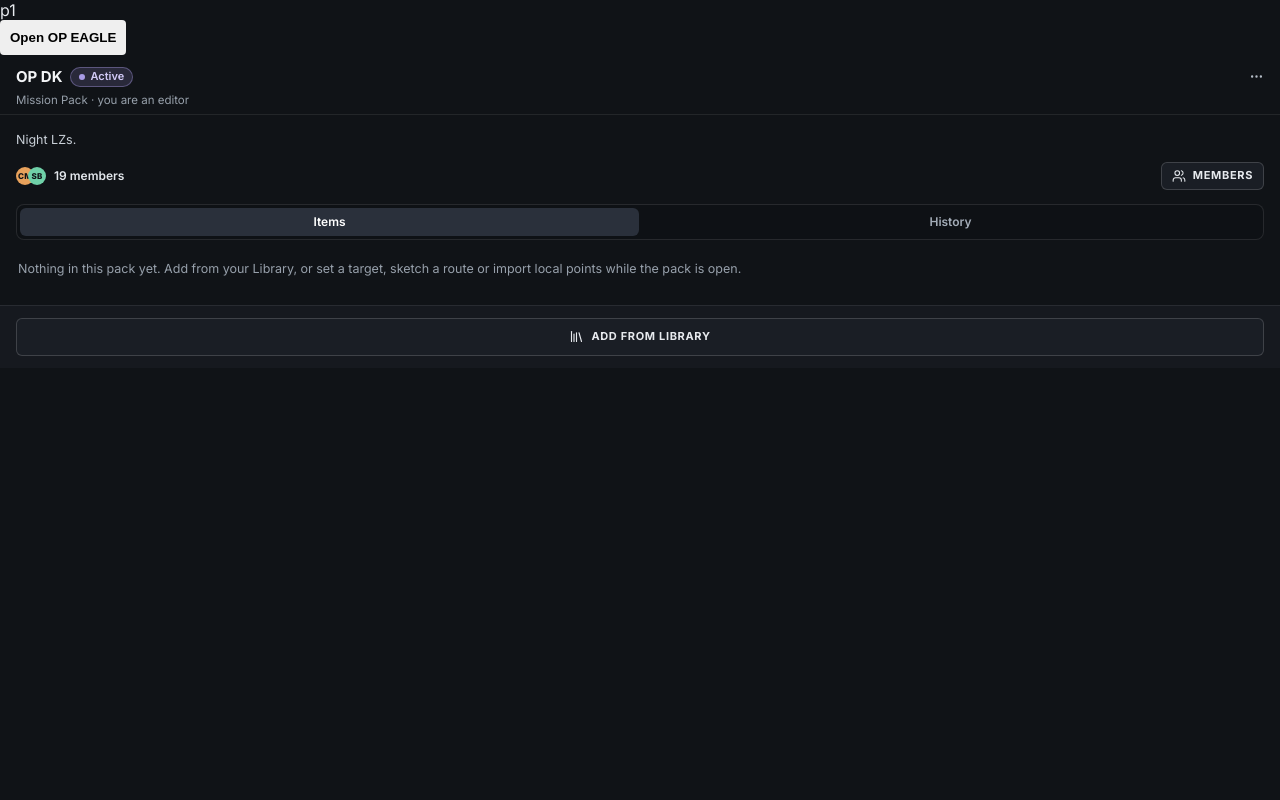
Test: leaving the pack › says a member who is also in the shared team keeps it through the team
The image size is (1280, 800).
What coordinates should you click on to do the following:
click the button named "More actions for OP DK"
I would click on:
 (1256, 76)
Its box is x1=1242 y1=62 x2=1270 y2=90.
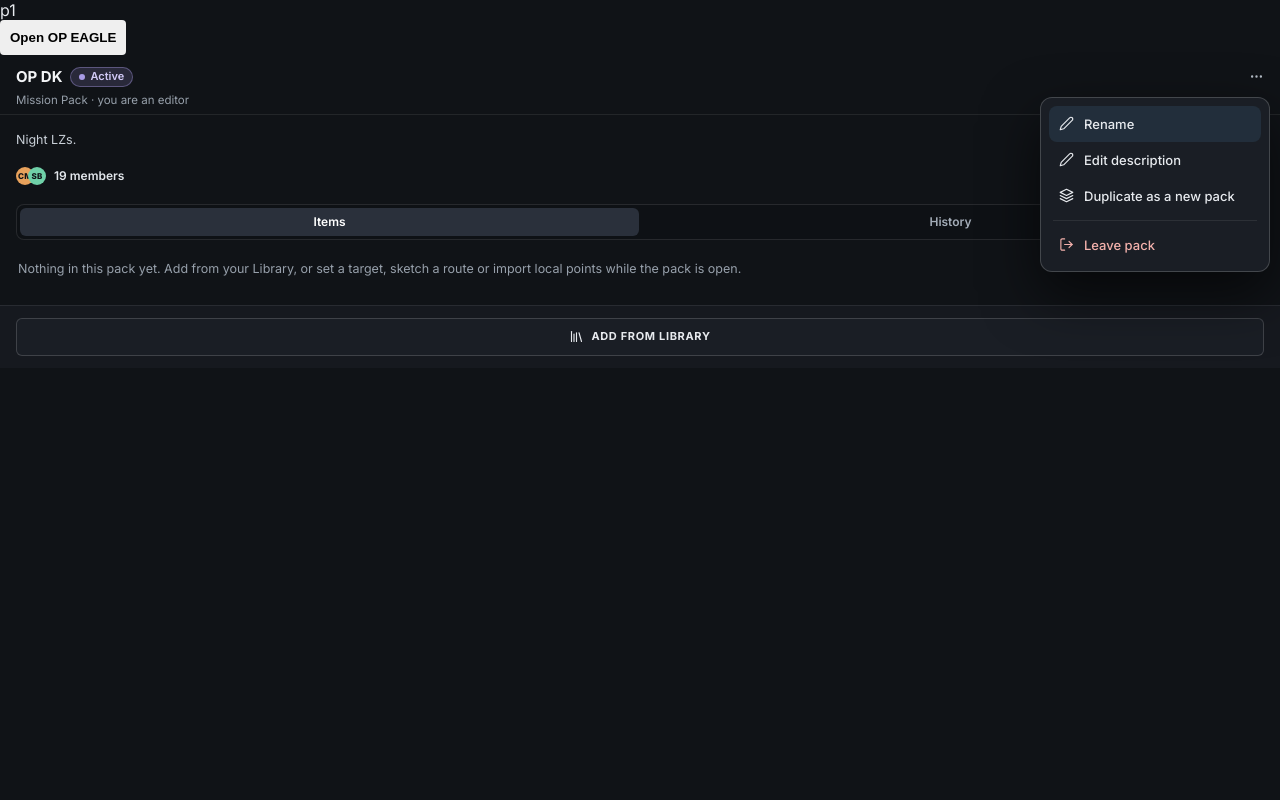
What coordinates should you click on to do the following:
click the menu item "Leave pack"
I would click on:
 (1155, 244)
Its box is x1=1049 y1=226 x2=1261 y2=262.
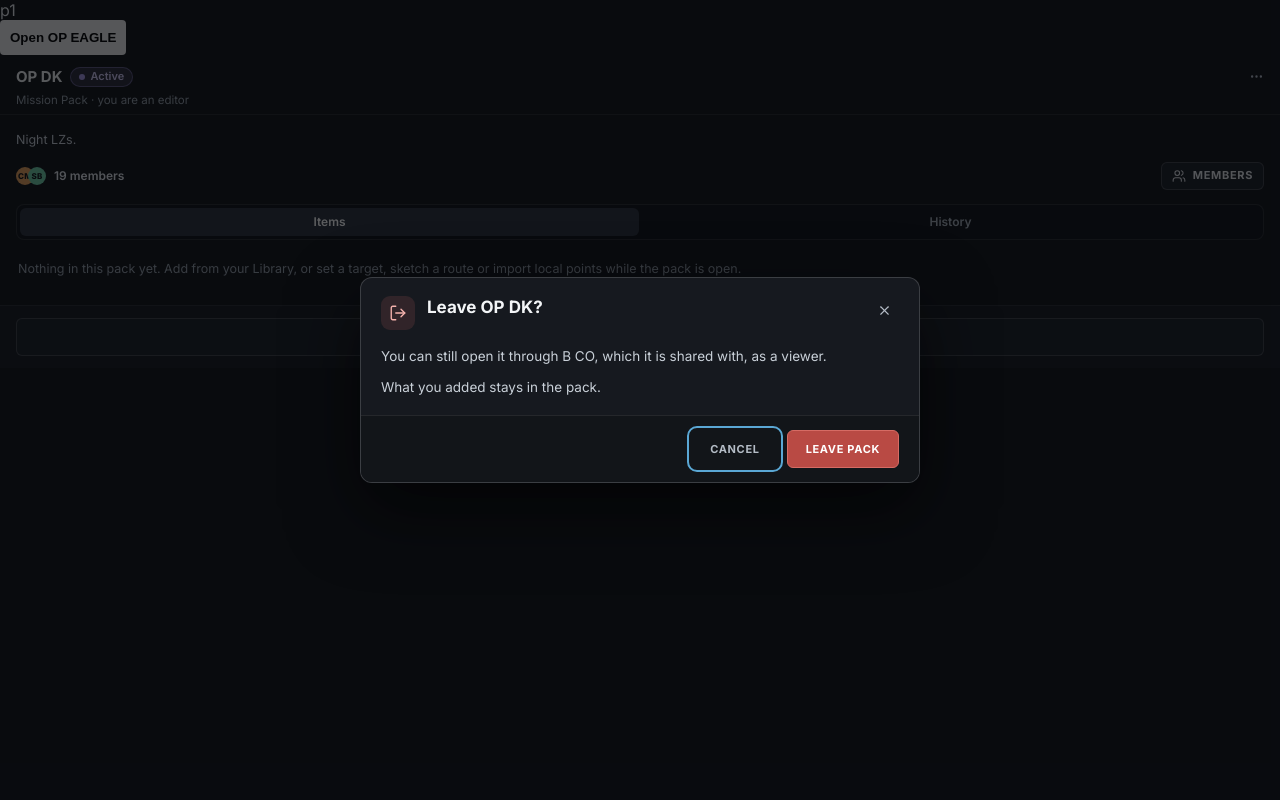
Expected: the text "You can still open it through B CO, which it is shared with, as a viewer." is shown, x1=381 y1=346 x2=899 y2=366
